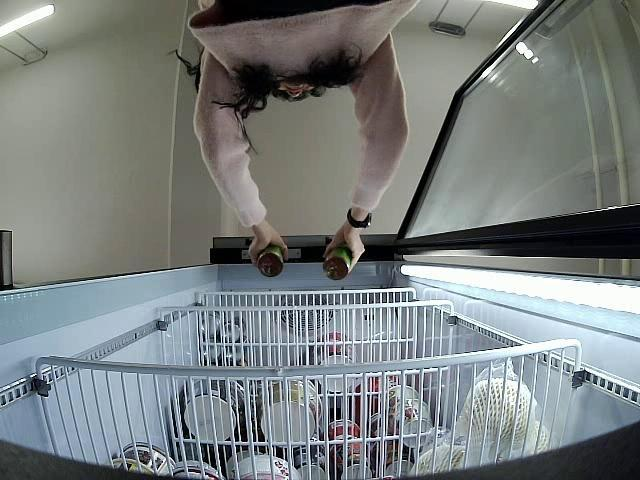19_17cha: (258, 242, 286, 279), (323, 246, 352, 281)
